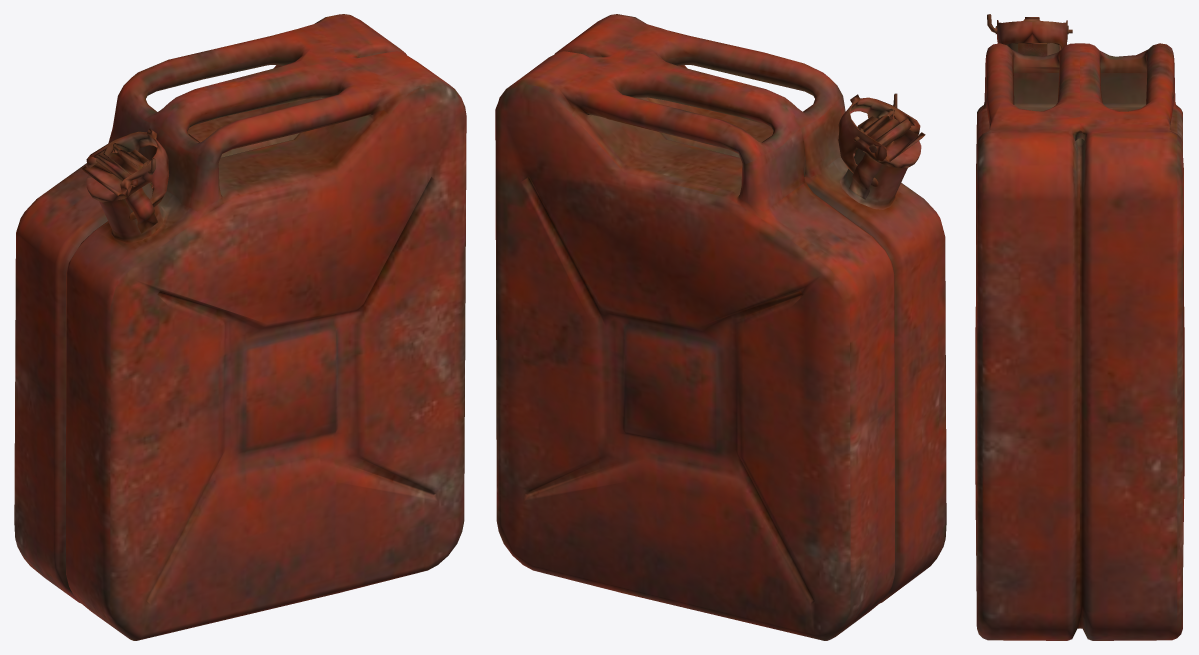
The model's file is metal_jerrycan.gltf.
The picture shows the model from 3 angles, left to right: view 1: azimuth 30°, elevation 25°; view 2: azimuth 150°, elevation 25°; view 3: azimuth 270°, elevation 25°; orthographic projection. The views are drawn at different scales.
Parts seen in each view (by area): view 1: metal_jerrycan; view 2: metal_jerrycan; view 3: metal_jerrycan.
Boxes of the visible parts, x1,y1,x2,y2 form: metal_jerrycan: [14, 14, 466, 640]; metal_jerrycan: [495, 14, 946, 640]; metal_jerrycan: [975, 14, 1184, 640].
Bounding box in the file's own units: 0.35 × 0.4548 × 0.1717.
Materials: 1 (1 with a texture image).
